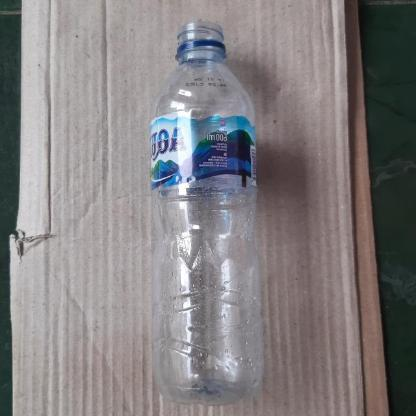Plastic Bottle: (152, 20, 262, 402)
